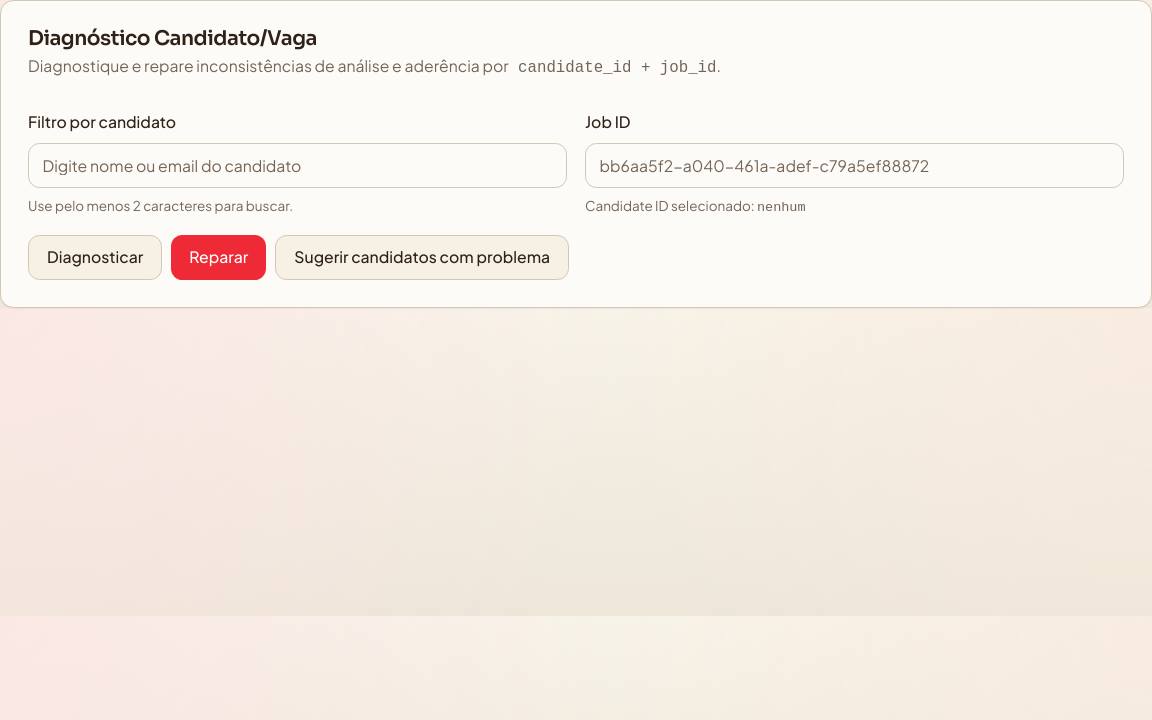
Test: CandidateJobFlowDiagnosticsCard › sugere candidatos com problema e permite selecionar
Click the button "Sugerir candidatos com problema".
click(422, 257)  # box x1=275 y1=234 x2=569 y2=280
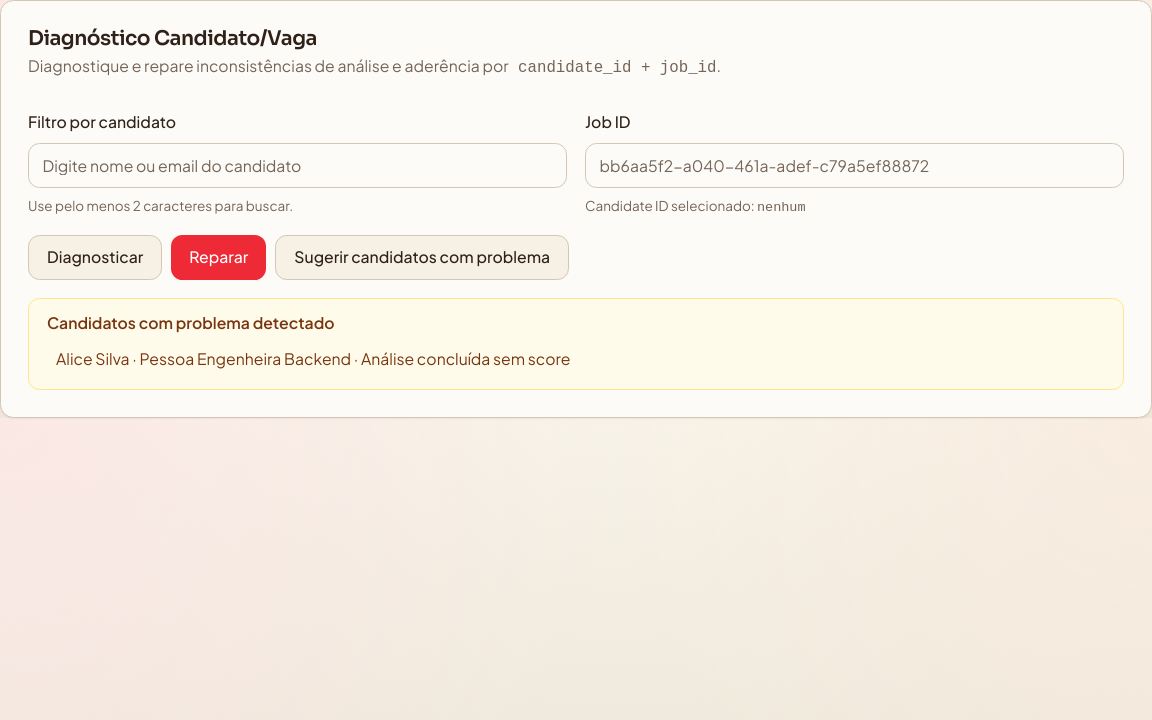
Expected: the text "Candidatos com problema detectado" is shown, x1=47 y1=313 x2=334 y2=332
Click the 4th button.
click(313, 358)  # box x1=47 y1=344 x2=1105 y2=375
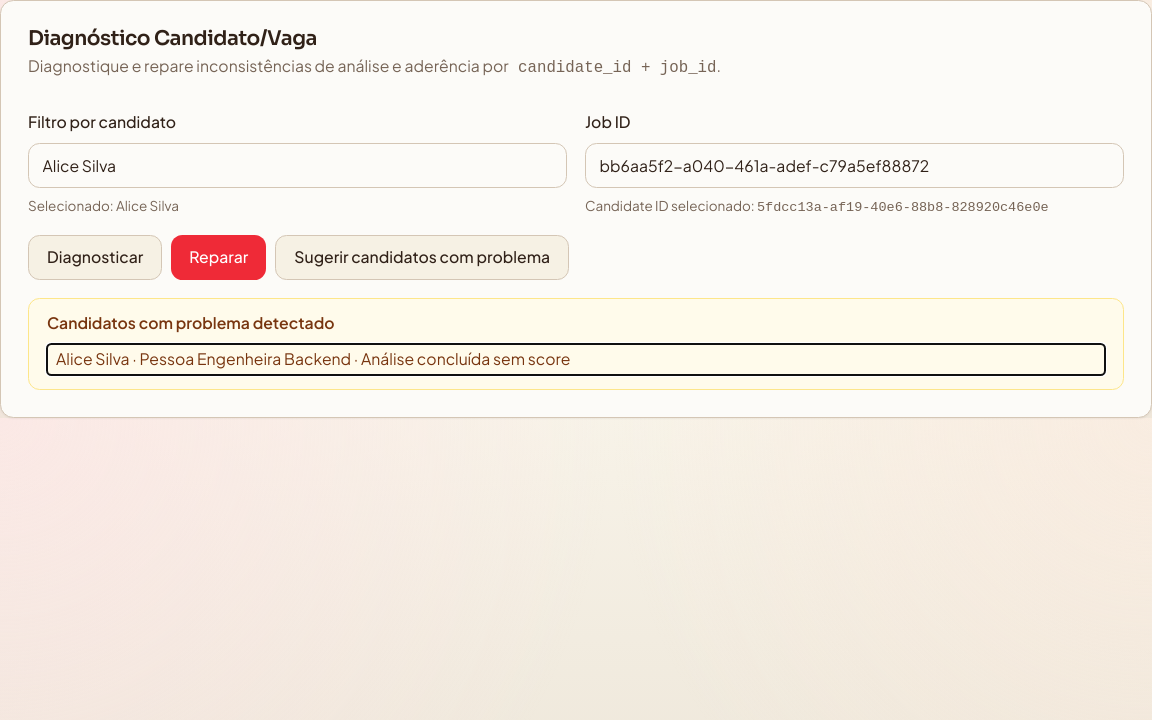
Expected: the field labelled "Job ID" holds "bb6aa5f2-a040-461a-adef-c79a5ef88872", x1=585 y1=142 x2=1124 y2=188
Expected: the field labelled "Filtro por candidato" holds "Alice Silva", x1=28 y1=142 x2=567 y2=188
